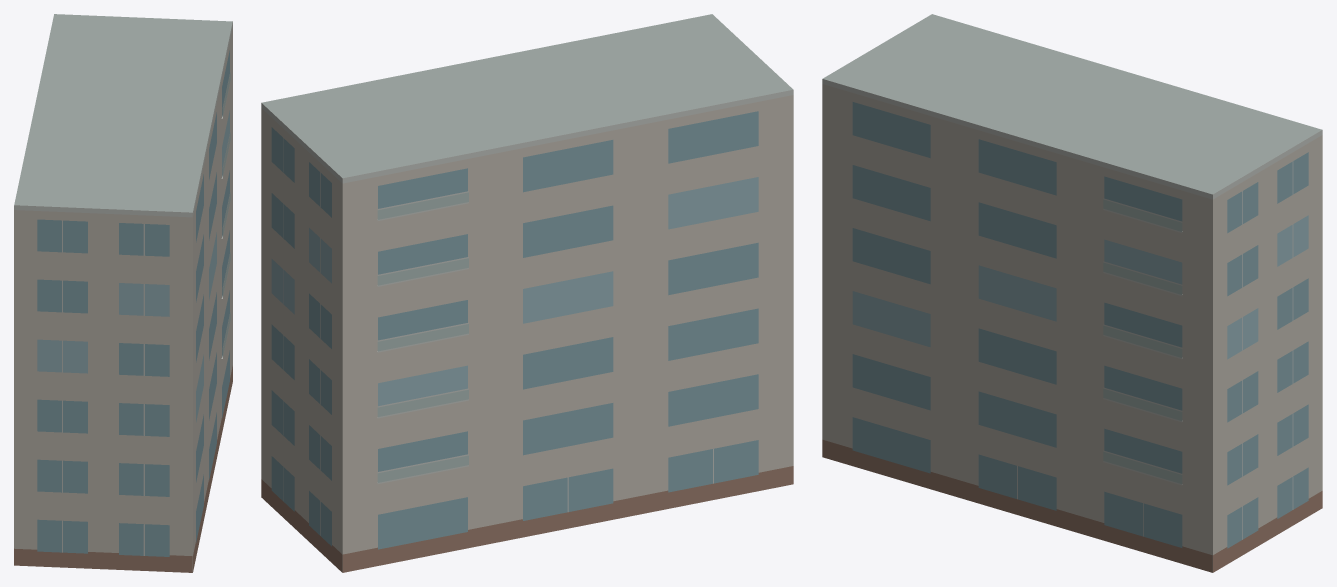
The model's file is survey-upis-32586234.glb.
3 views of the same model, side by side, from view 1: azimuth 30°, elevation 25°; view 2: azimuth 150°, elevation 25°; view 3: azimuth 270°, elevation 25° (orthographic). The views are drawn at different scales.
Visible parts, largest first — view 1: survey-upis-32586234.tmp; view 2: survey-upis-32586234.tmp; view 3: survey-upis-32586234.tmp.
Part boxes in pixels (bbox=[...]): survey-upis-32586234.tmp: bbox=[14, 14, 232, 572]; survey-upis-32586234.tmp: bbox=[261, 14, 793, 572]; survey-upis-32586234.tmp: bbox=[822, 14, 1322, 572].
Size of the model in its own units: 18.74 by 18.3 by 21.94.
